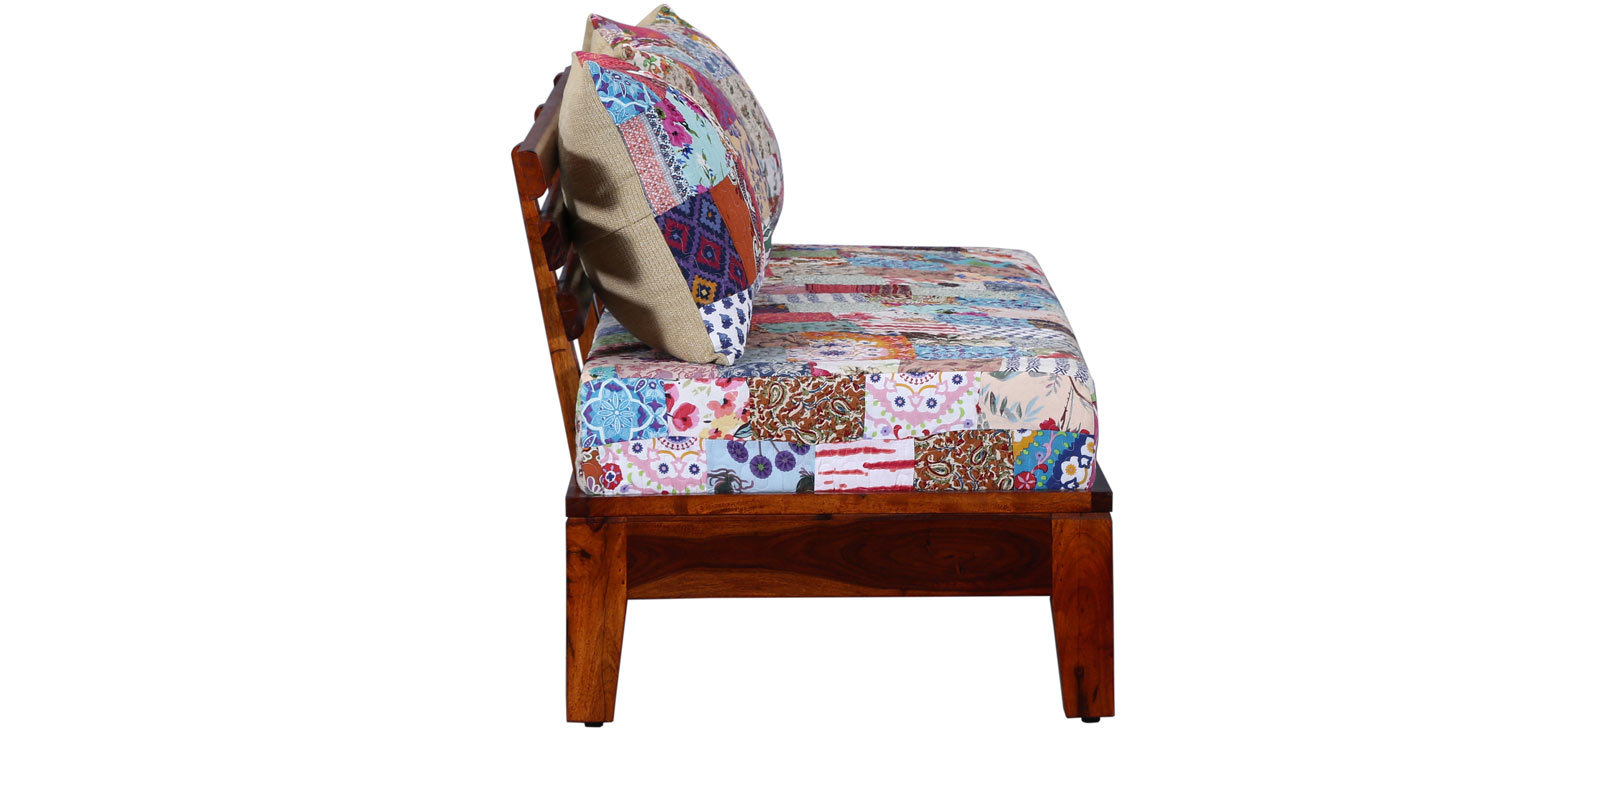Hayden Three Seater Sofa in Honey Oak Finish by Bohemiana: (466, 3, 1140, 740)
